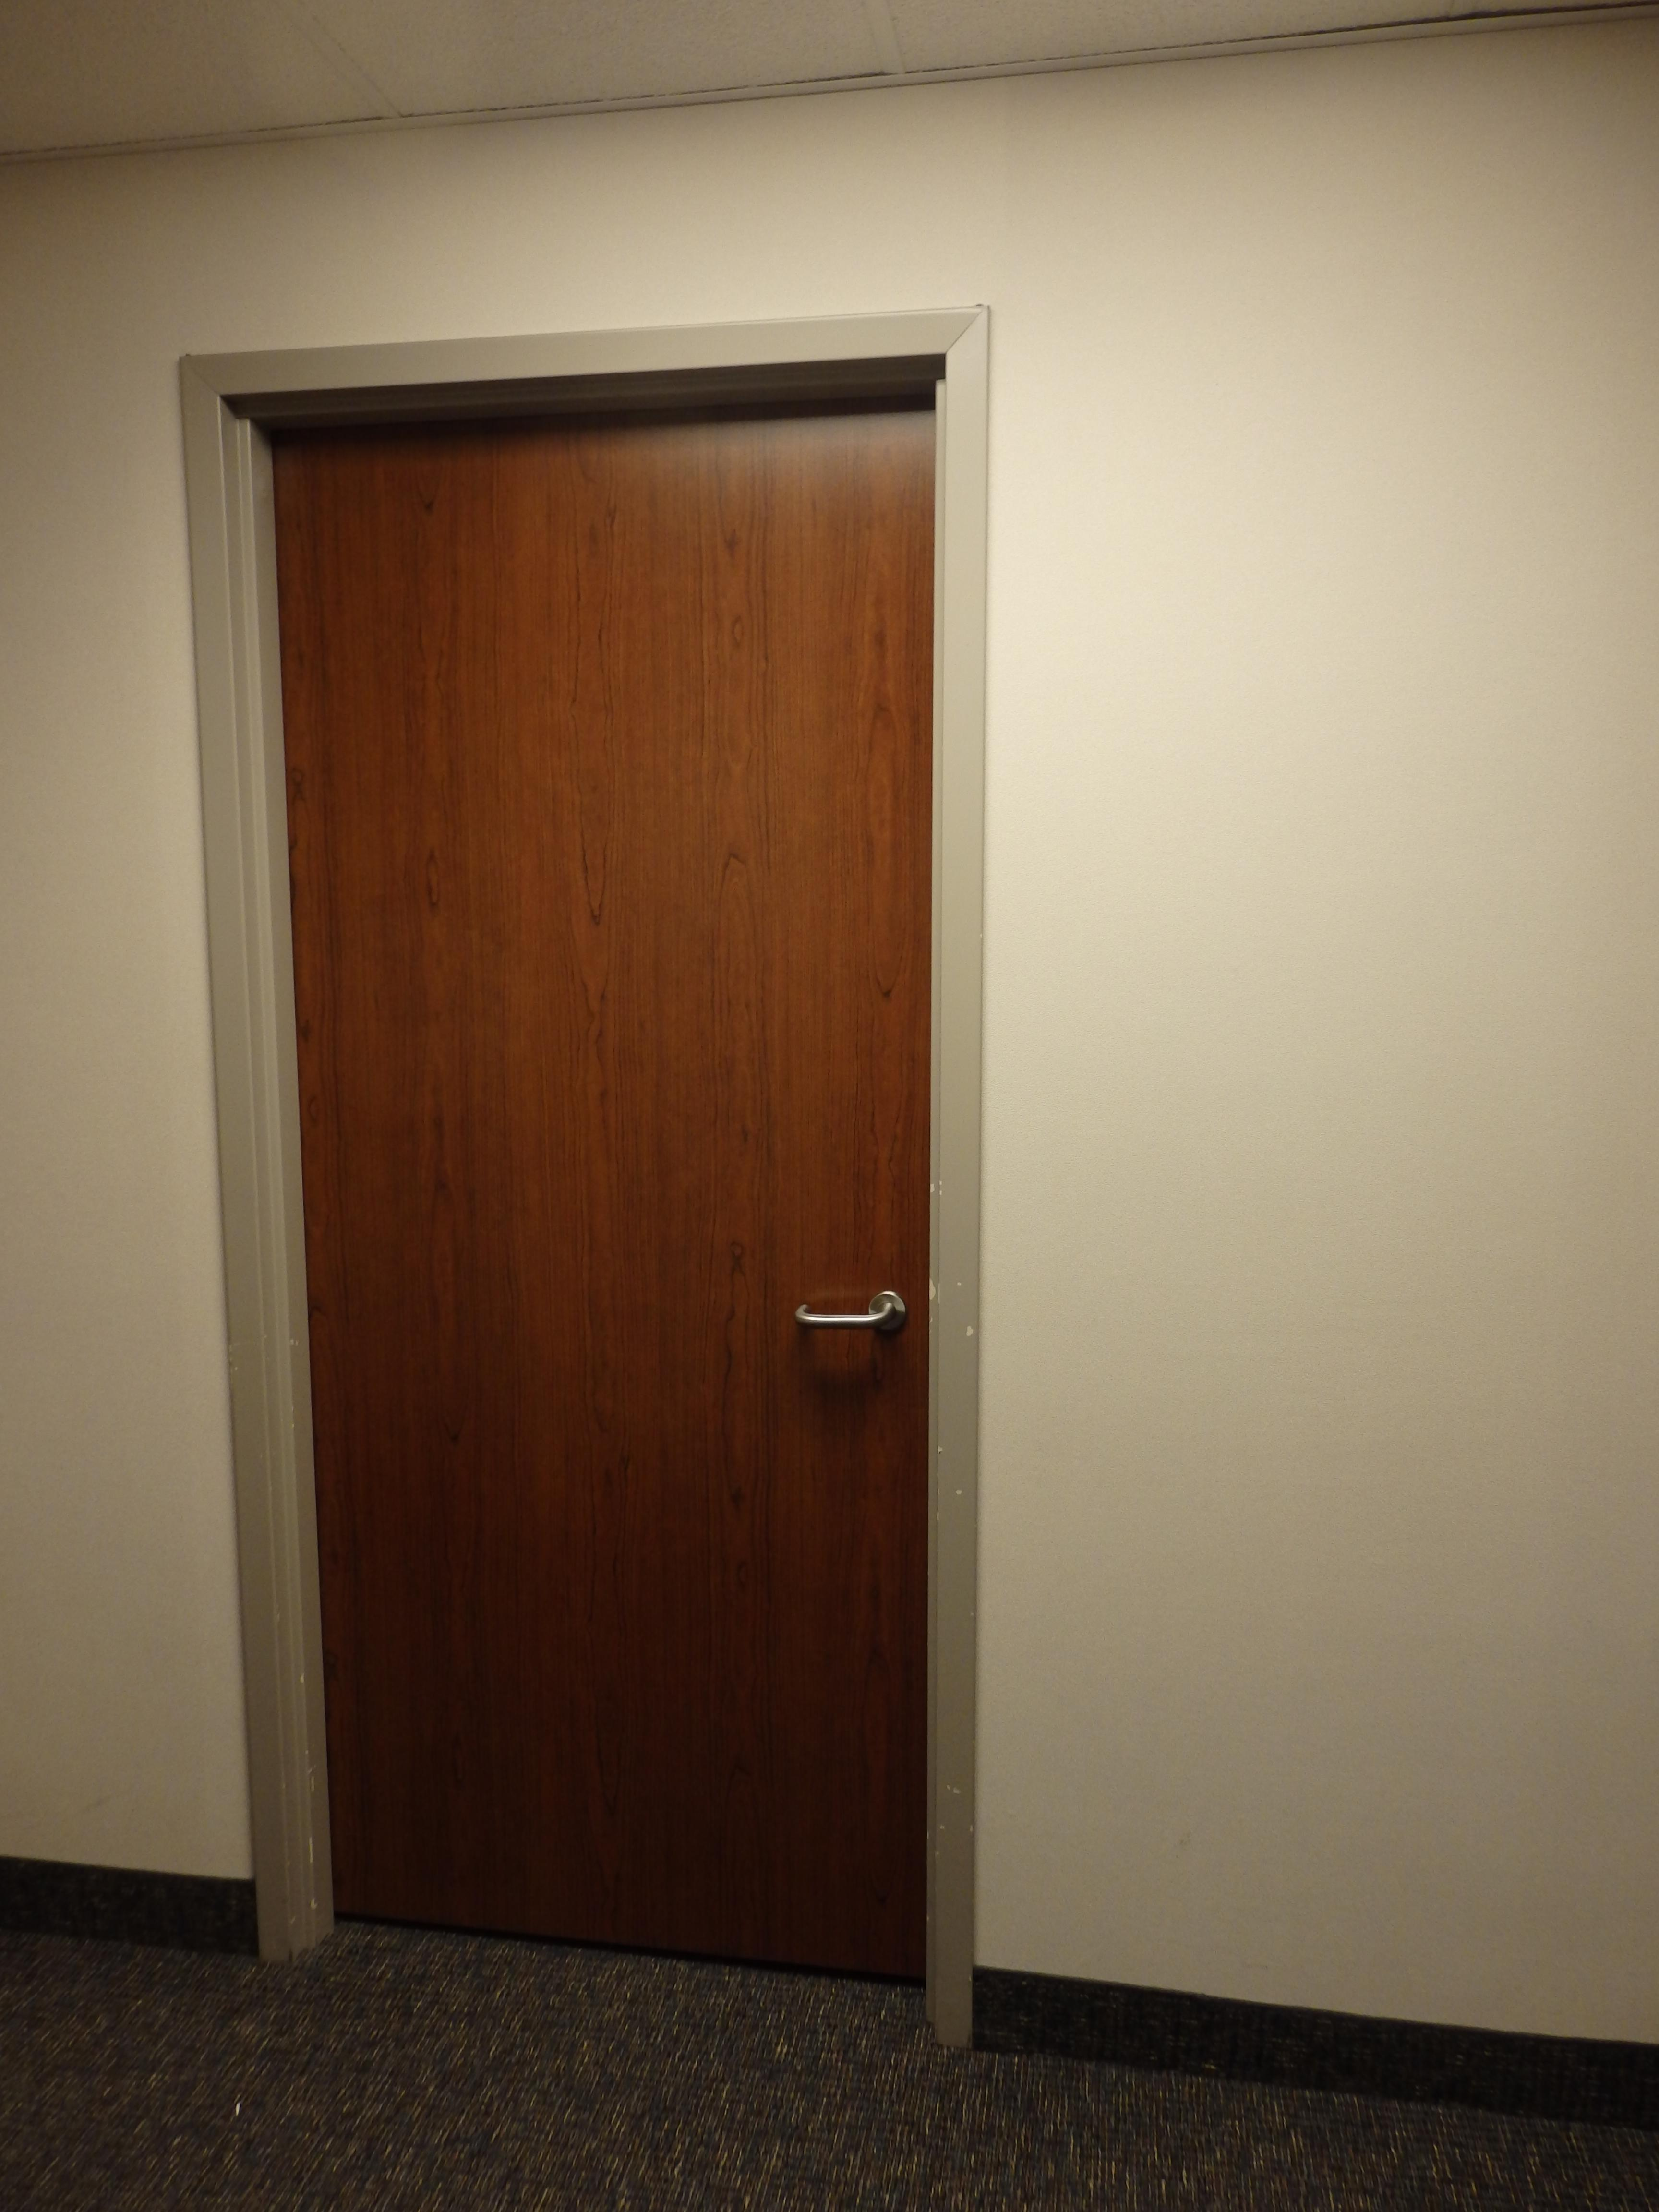door: (289, 359, 981, 1987)
